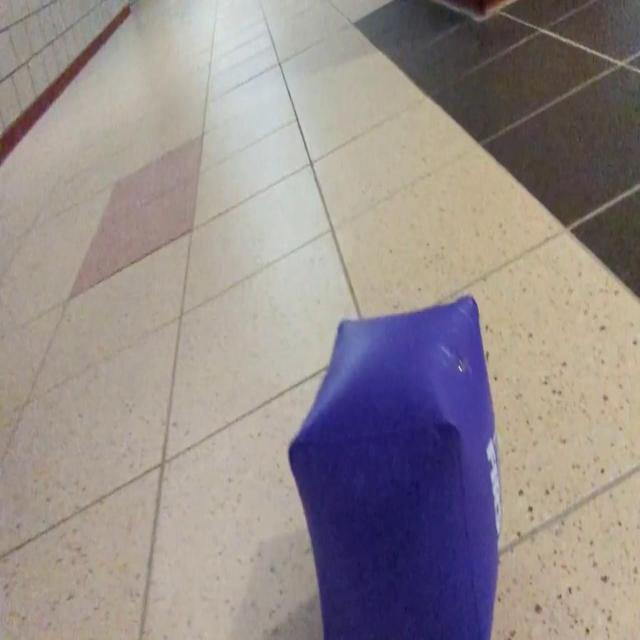frc_cube: (288, 296, 502, 640)
